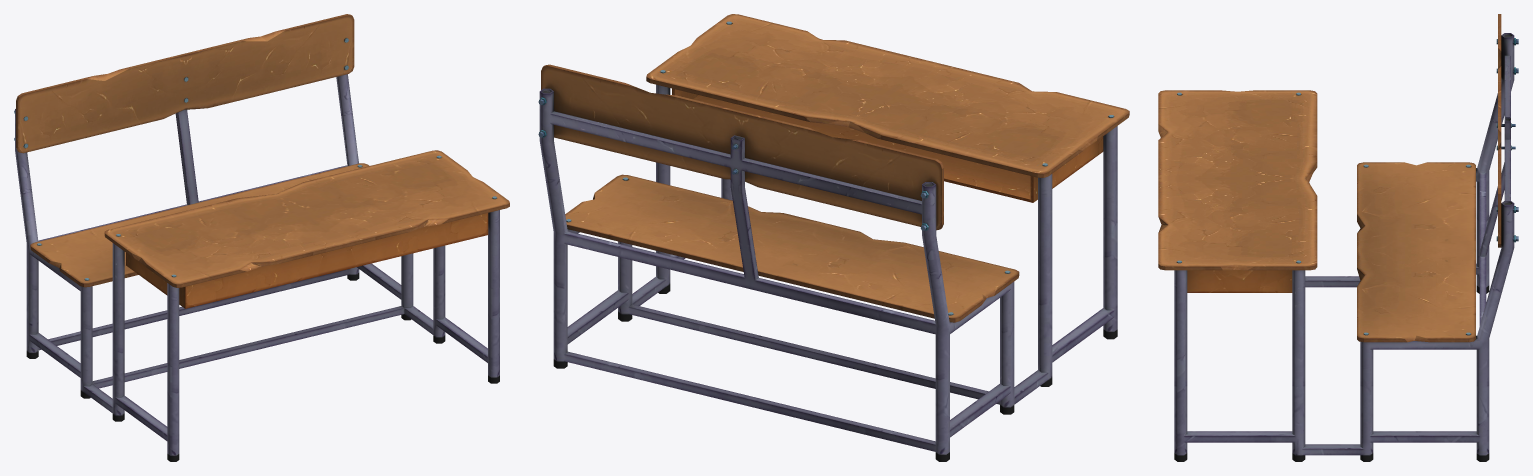
Rendered from Desk 2.obj.
The picture shows the model from 3 angles, left to right: view 1: azimuth 30°, elevation 25°; view 2: azimuth 150°, elevation 25°; view 3: azimuth 270°, elevation 25°; orthographic projection. The views are drawn at different scales.
Visible parts, largest first — view 1: Desk_2; view 2: Desk_2; view 3: Desk_2.
Boxes of the visible parts, x1,y1,x2,y2 form: Desk_2: [14, 14, 509, 461]; Desk_2: [538, 14, 1129, 461]; Desk_2: [1158, 14, 1518, 461].
Size of the model in its own units: 8.4 by 6.14 by 7.26.
